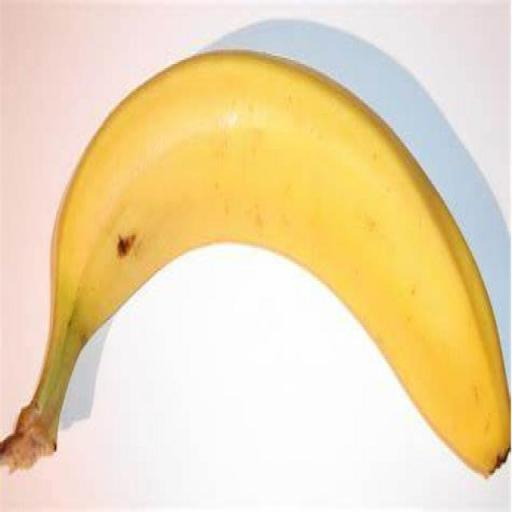fruit: (0, 52, 509, 475)
